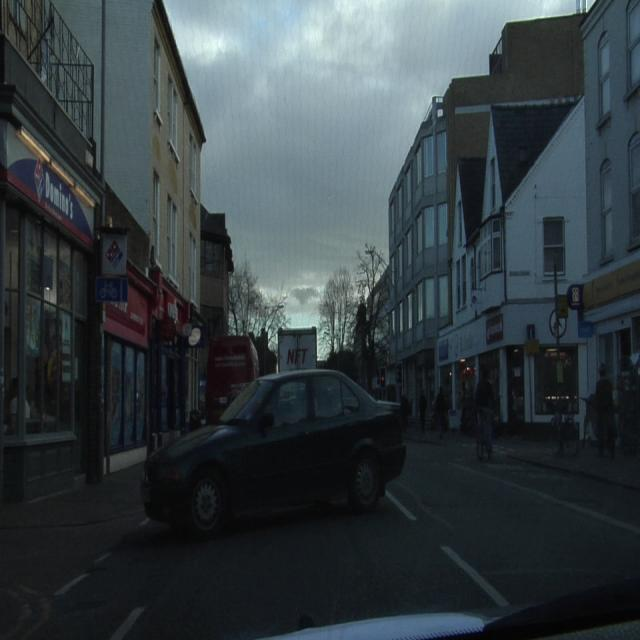Building: (2, 3, 230, 502), (385, 8, 639, 430)
Car: (144, 371, 404, 532)
Road: (4, 437, 639, 637)
Tree: (319, 241, 384, 368), (232, 263, 286, 372)
person: (595, 365, 615, 455), (476, 371, 492, 459), (626, 351, 639, 449)
